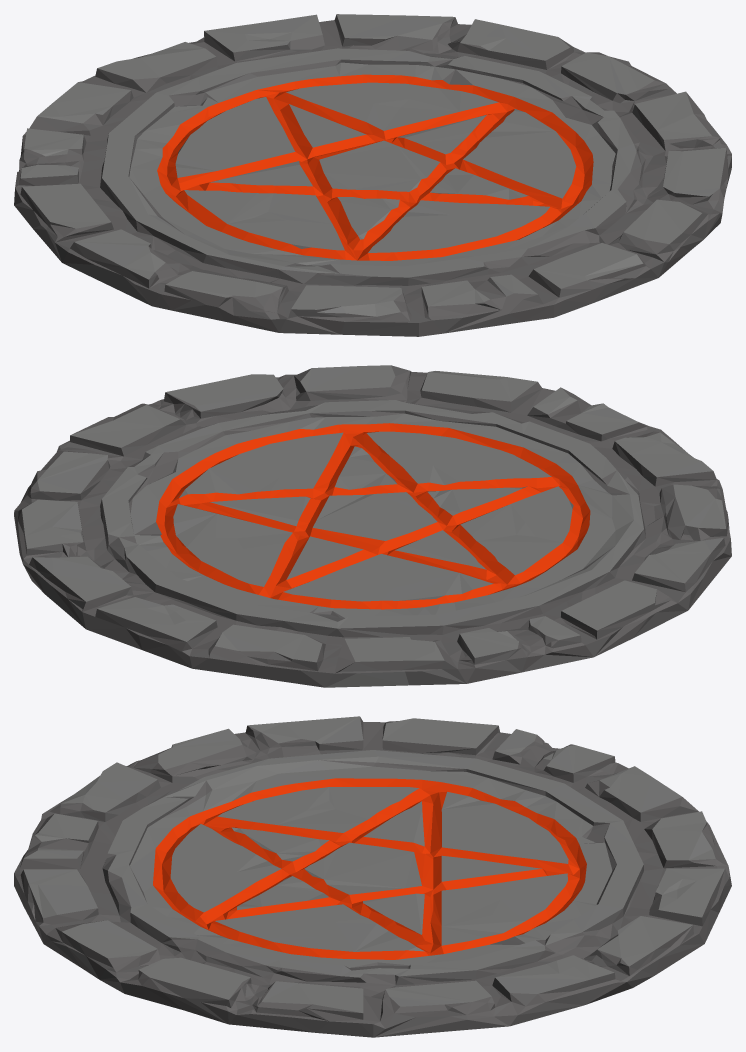
Rendered from SM_Env_Tiles_Pentagram_01.FBX.
3 renders of one model, top to bottom at view 1: azimuth 30°, elevation 25°; view 2: azimuth 150°, elevation 25°; view 3: azimuth 270°, elevation 25°, orthographic.
Visible parts, largest first — view 1: SM_Env_Tiles_Pentagram_01; view 2: SM_Env_Tiles_Pentagram_01; view 3: SM_Env_Tiles_Pentagram_01.
Boxes of the visible parts, x1,y1,x2,y2 form: SM_Env_Tiles_Pentagram_01: [14, 14, 731, 336]; SM_Env_Tiles_Pentagram_01: [14, 365, 731, 687]; SM_Env_Tiles_Pentagram_01: [14, 716, 731, 1037].
Size of what is drawn, in the model's own units: 650 by 651 by 22.59.
